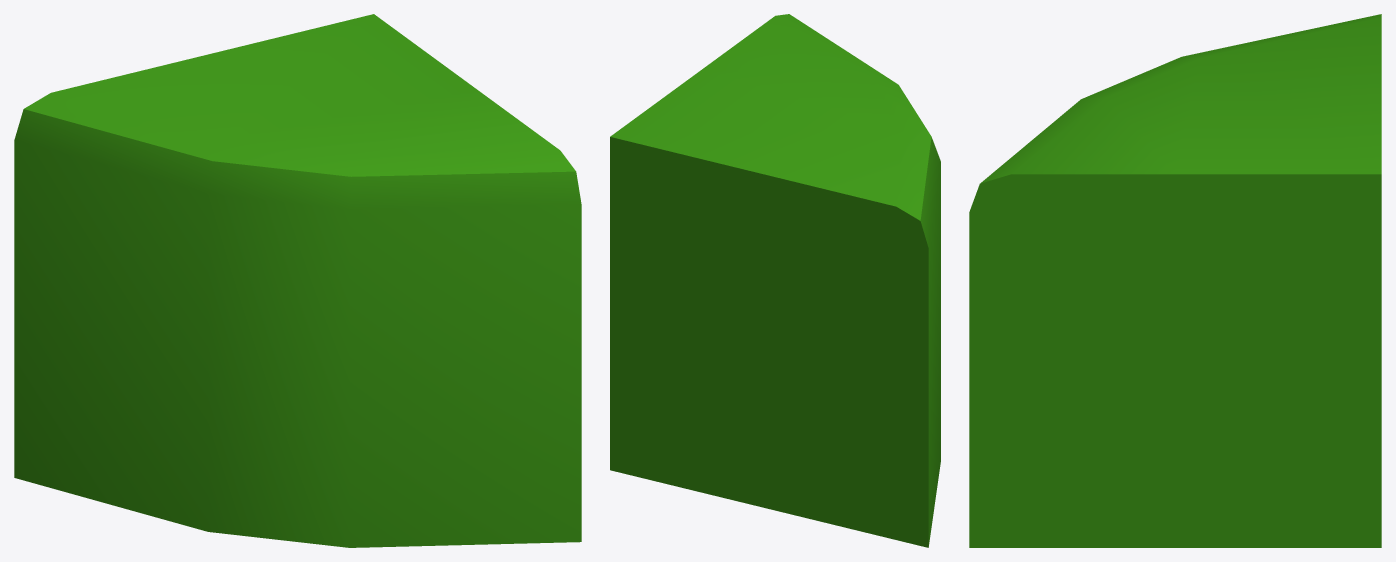
Rendered from FloorCornerPiece.fbx.
The picture shows the model from 3 angles, left to right: view 1: azimuth 30°, elevation 25°; view 2: azimuth 150°, elevation 25°; view 3: azimuth 270°, elevation 25°; orthographic projection. The views are drawn at different scales.
Parts seen in each view (by area): view 1: FloorCornerPiece; view 2: FloorCornerPiece; view 3: FloorCornerPiece.
Part boxes in pixels (left/top/right/bottom): FloorCornerPiece: left=14, top=14, right=581, bottom=547; FloorCornerPiece: left=610, top=14, right=940, bottom=547; FloorCornerPiece: left=969, top=14, right=1381, bottom=547.
Bounding box in the file's own units: 39.5 × 39.5 × 39.5.
